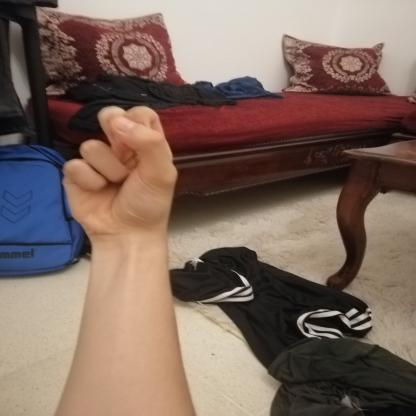QAAF: (46, 98, 197, 248)
